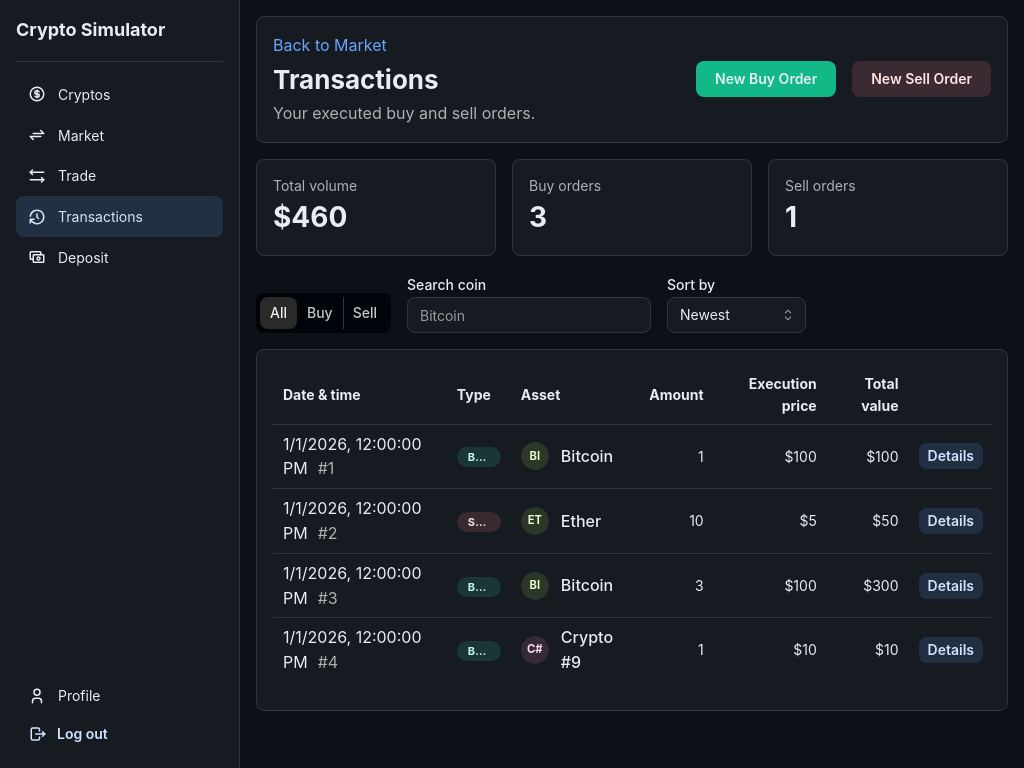
Test: TransactionsPage › opens details from the fetched transaction when a row is clicked
The width and height of the screenshot is (1024, 768).
Click the text "#2" at (328, 533), box [318, 523, 338, 543]
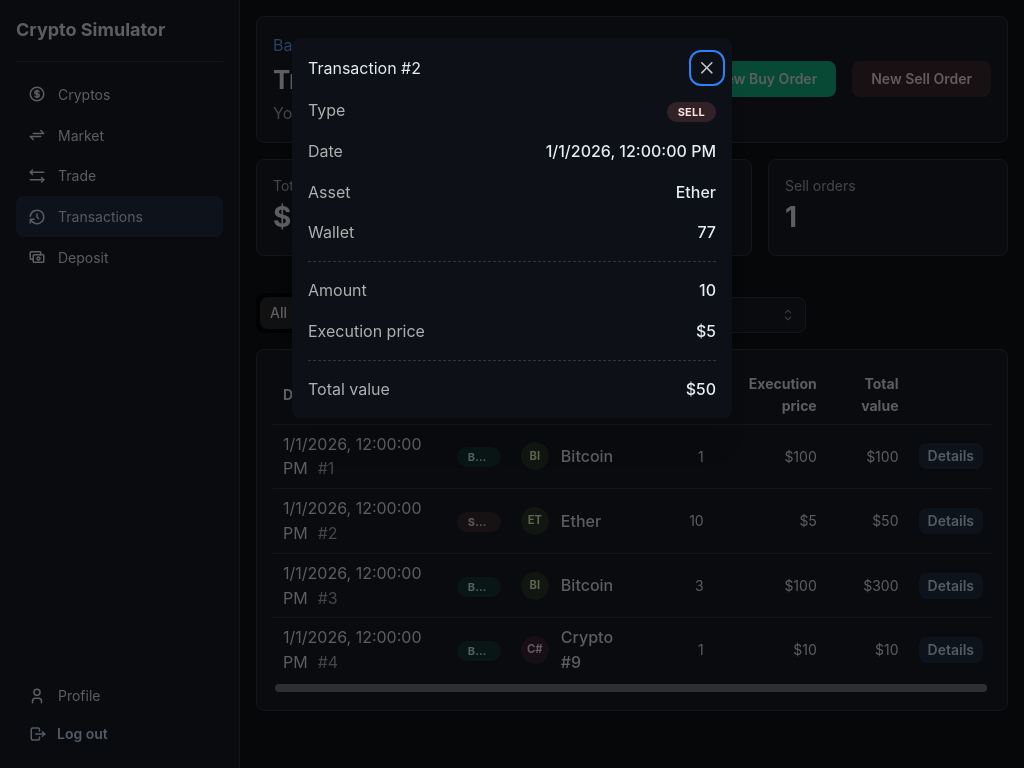
Expected: the text "77" is shown, [697, 221, 716, 246]
Expected: the text "Ether" is shown, [676, 180, 716, 205]
Expected: the text "$50" is shown, [686, 377, 716, 402]
